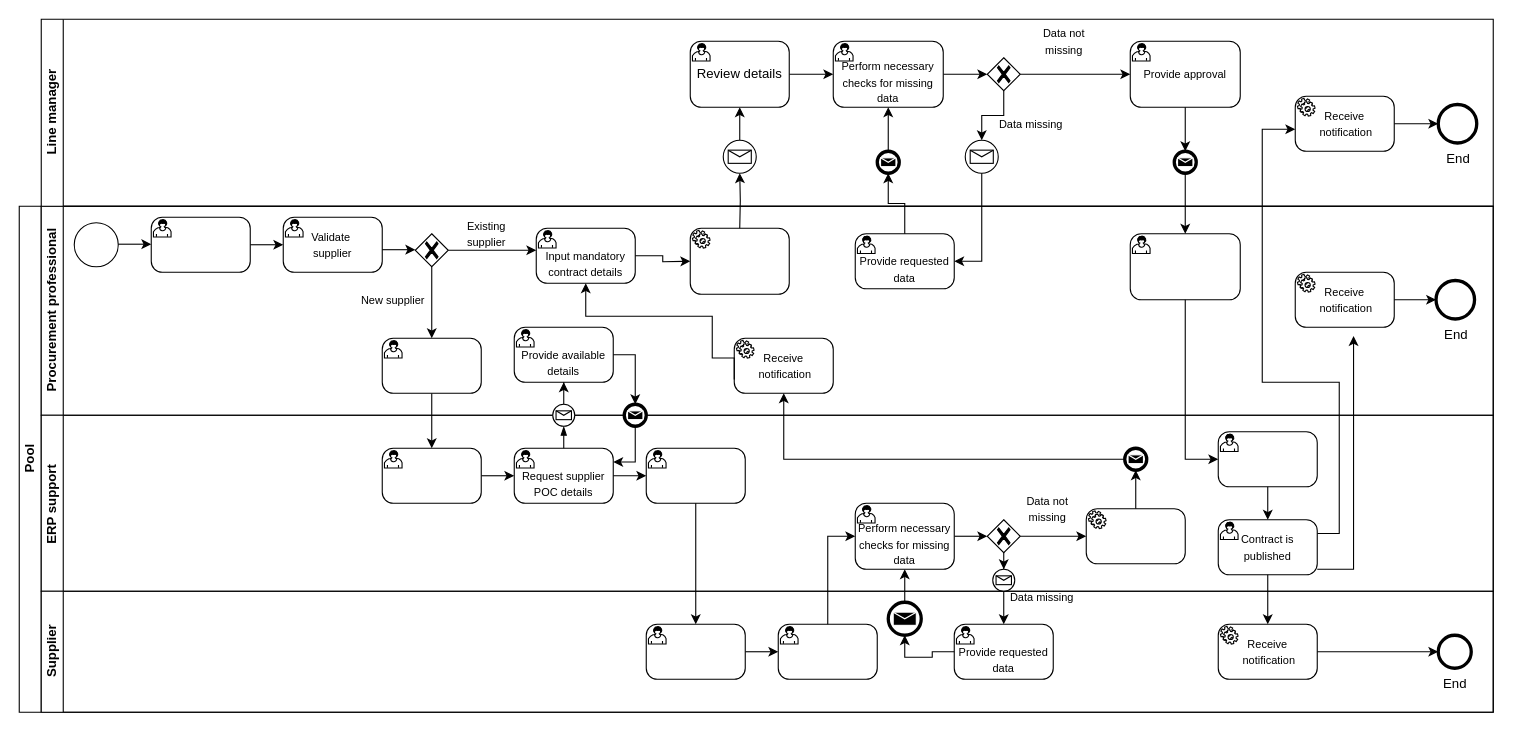
Image size: 1513x732. Some labels were removed from this diagram. The shapes that lost their labels are listed below. From the top down, each one's centre as x and y in pixels, then its label:
At (x=95, y=244): "Start".
At (x=200, y=244): "Create contract workspace".
At (x=739, y=260): "Select and add Line manager name".
At (x=1184, y=266): "Share approval, contract details".
At (x=431, y=365): "Create supplier registration ticket".
At (x=431, y=475): "Accept ticket".
At (x=695, y=475): "Share onboarding questionnaire to supplier".
At (x=1267, y=459): "Complete ERP support tasks".
At (x=1135, y=536): "Supplier is registered".
At (x=695, y=651): "Review Questionnaire".
At (x=827, y=651): "Send completed questionnaire".
